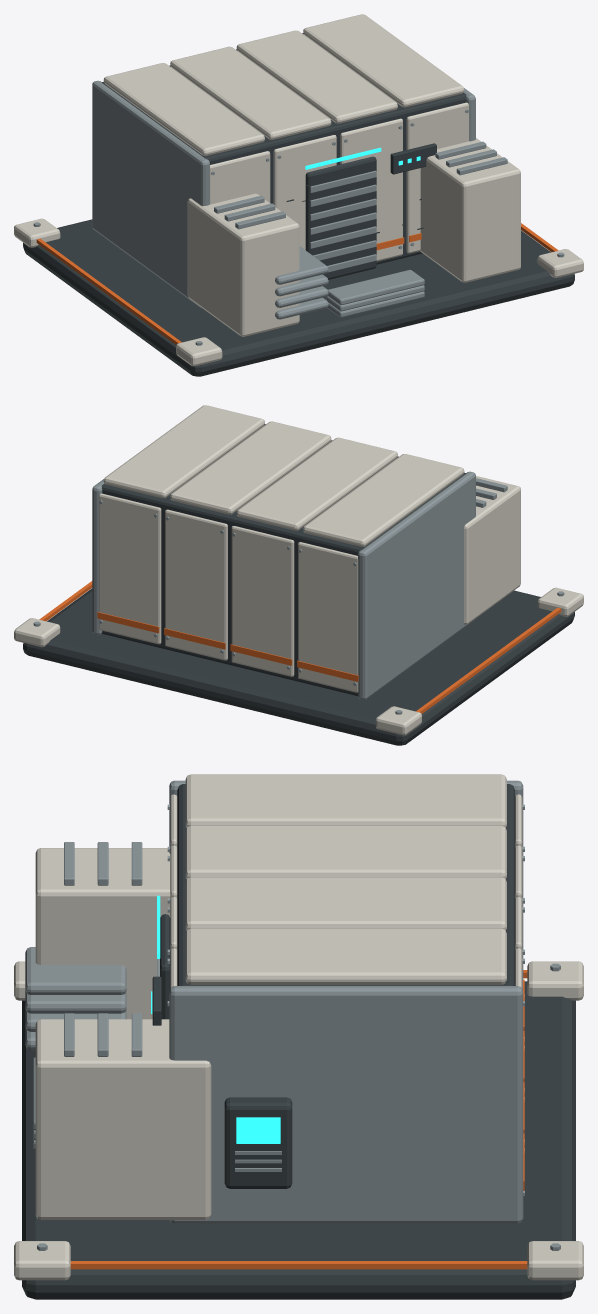
File: SM_StructuralFabricator_Body.fbx
3 renders of one model, top to bottom at view 1: azimuth 30°, elevation 25°; view 2: azimuth 150°, elevation 25°; view 3: azimuth 270°, elevation 25°, orthographic. The views are drawn at different scales.
Visible parts, largest first — view 1: SM_StructuralFabricator_Body; view 2: SM_StructuralFabricator_Body; view 3: SM_StructuralFabricator_Body.
Part boxes in pixels (bbox=[...]): SM_StructuralFabricator_Body: bbox=[14, 14, 583, 376]; SM_StructuralFabricator_Body: bbox=[14, 405, 583, 745]; SM_StructuralFabricator_Body: bbox=[14, 774, 583, 1299].
Bounding box in the file's own units: 532 × 422 × 231.
